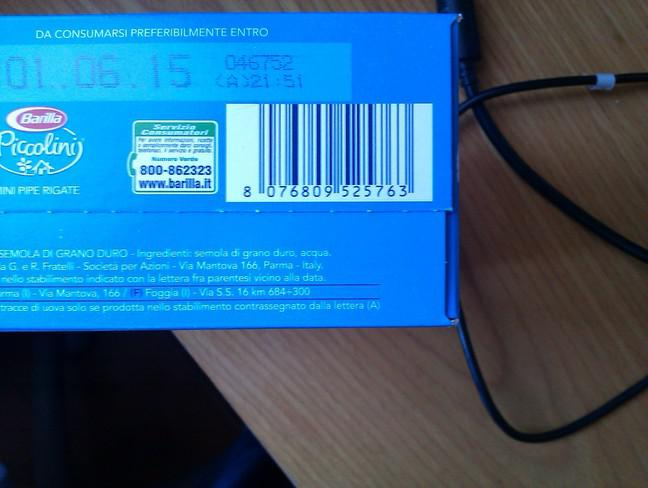Barkod: (226, 103, 429, 201)
